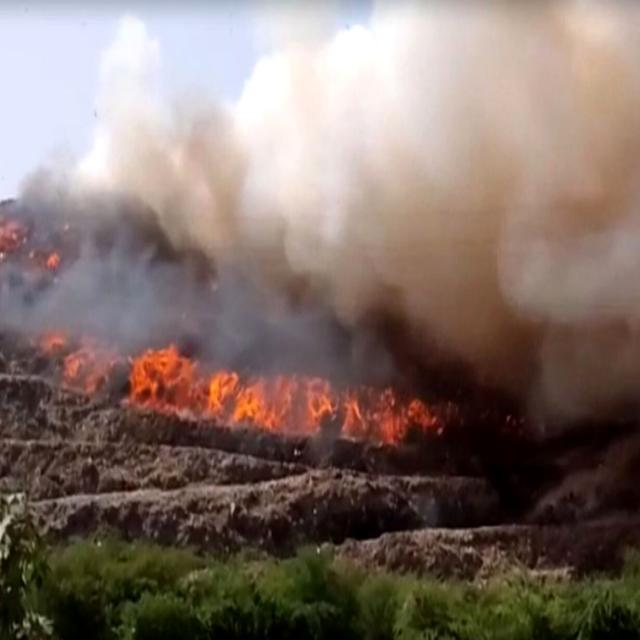Fire: (119, 332, 292, 437), (298, 373, 438, 447)
Smoke: (24, 0, 639, 411)
